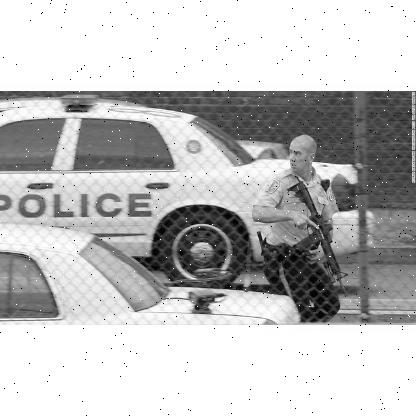gun: (282, 179, 350, 299)
